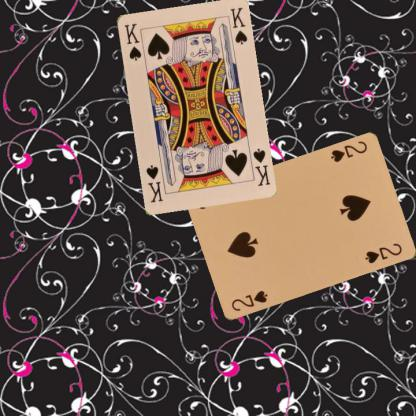2s: (228, 288, 269, 313), (328, 139, 368, 164)
Ks: (121, 20, 143, 62), (250, 146, 271, 187)
